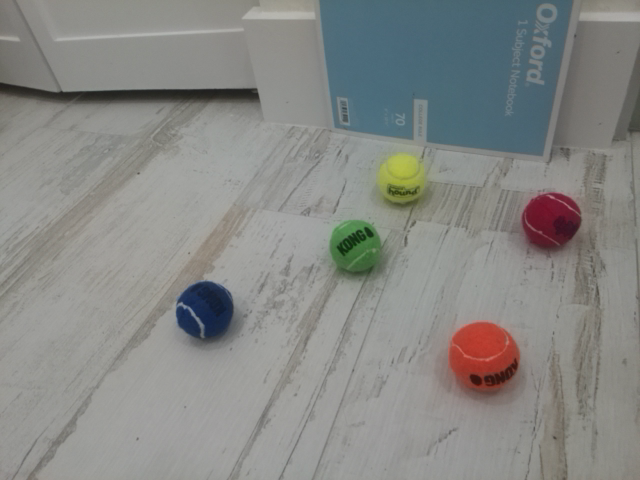blue-ball: (175, 280, 234, 339)
green-ball: (329, 219, 382, 274)
orange-ball: (448, 320, 522, 394)
red-ball: (521, 191, 582, 249)
yellow-ball: (378, 152, 427, 205)
